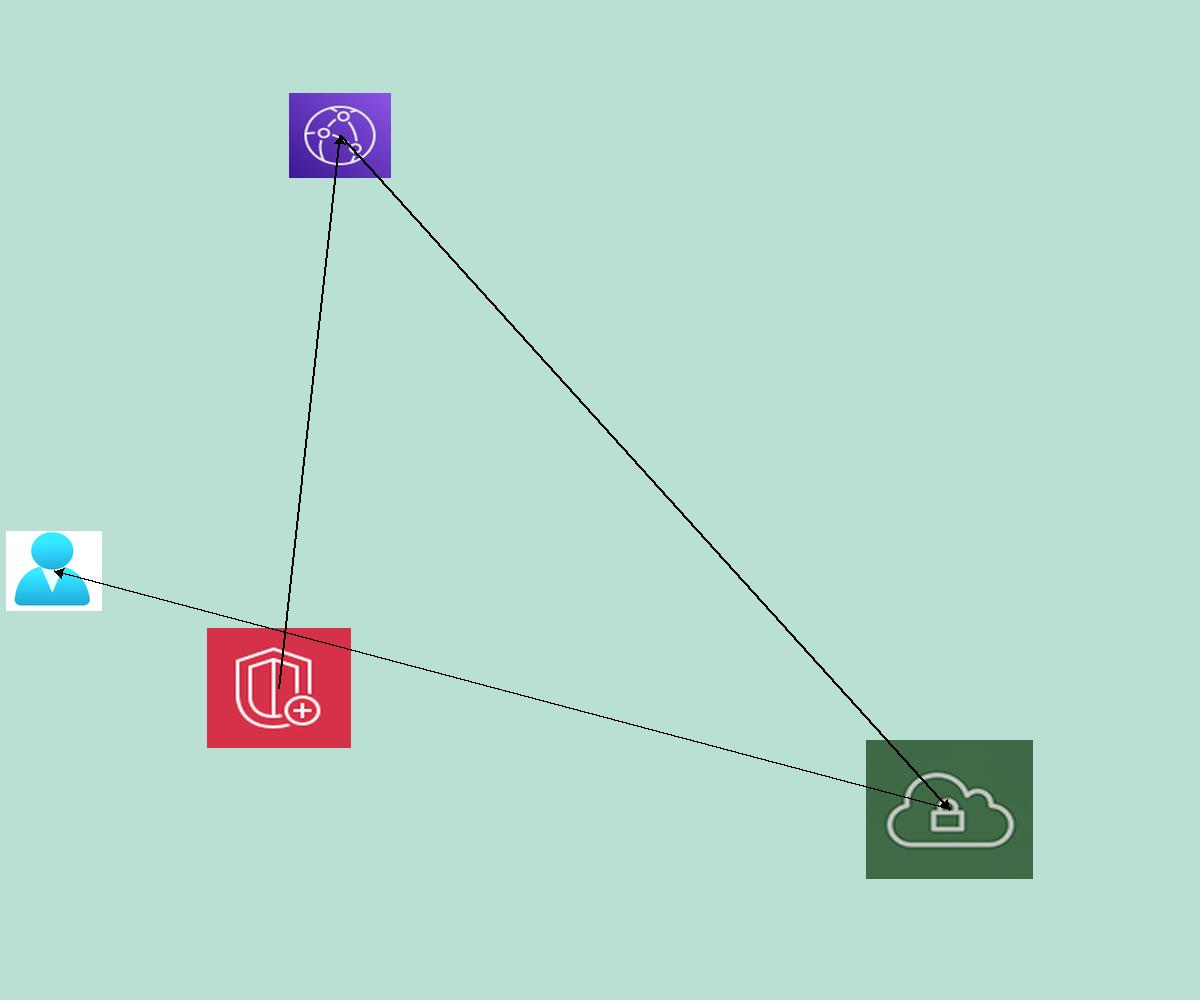AWS-CloudFront: (289, 93, 391, 178)
AWS-Private_vpc: (866, 740, 1033, 879)
AWS-Shield: (207, 628, 351, 748)
Azure_users: (6, 531, 102, 611)
